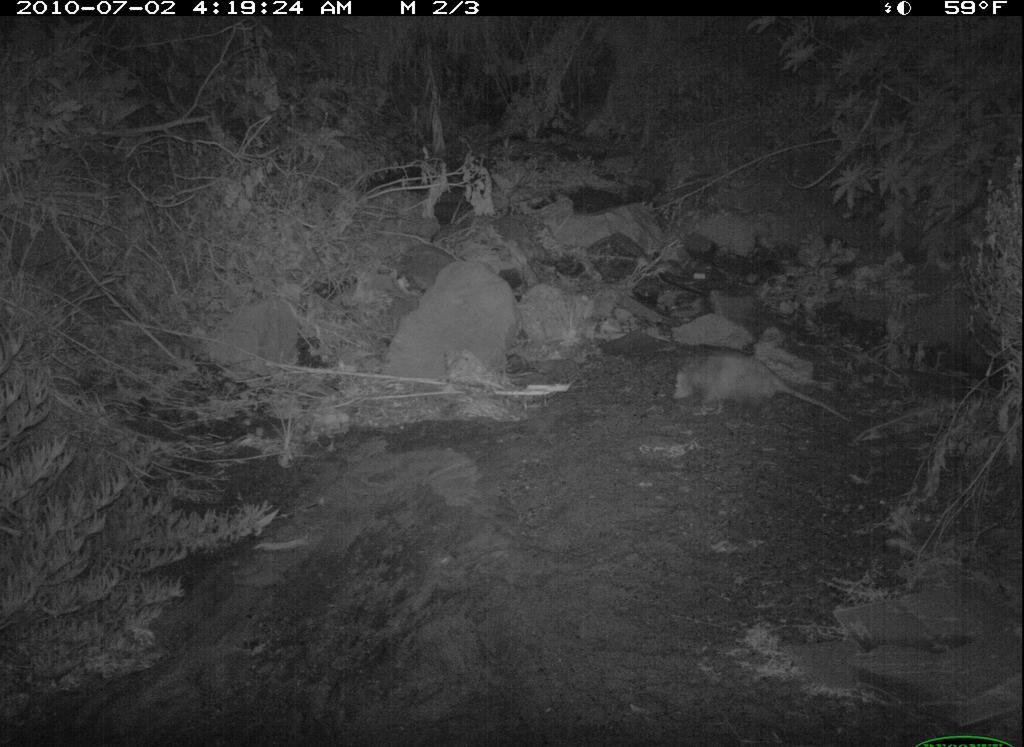opossum: (667, 341, 839, 429)
